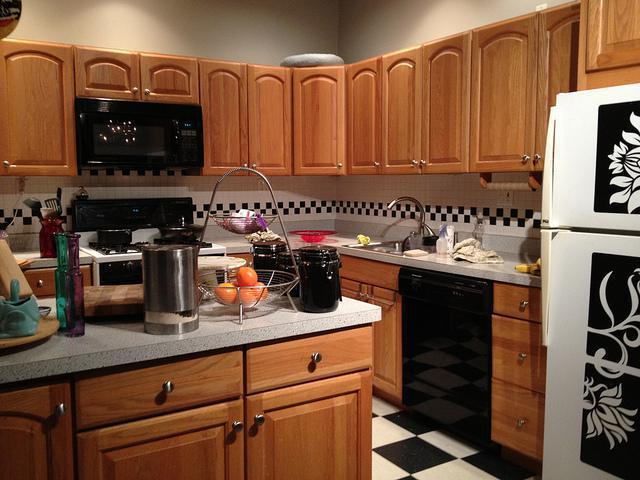Lavaplatos: (344, 197, 470, 271)
